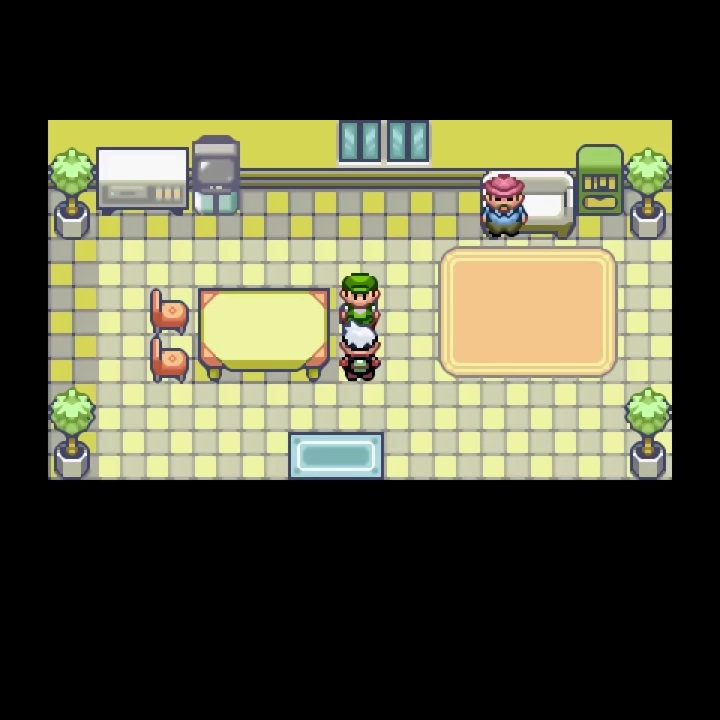agent: (336, 320, 384, 383)
exit: (285, 429, 385, 538)
npc: (480, 171, 529, 241), (339, 271, 381, 324)
